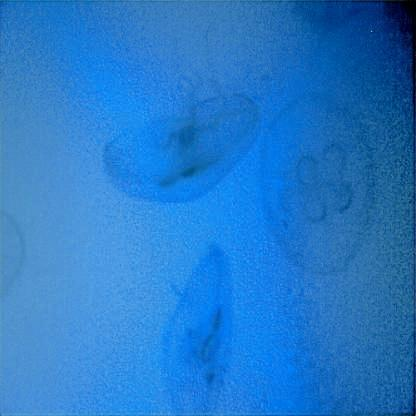Speckle: (101, 43, 261, 205), (260, 100, 374, 282), (159, 246, 235, 410)
